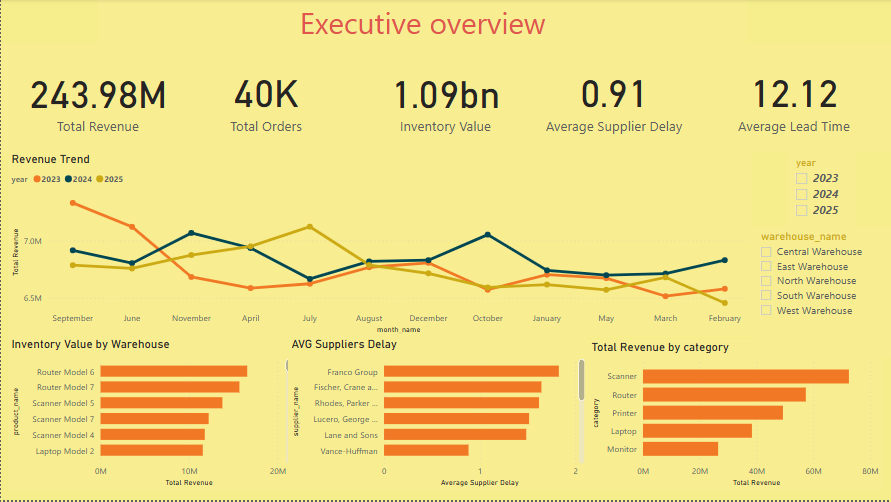

The page's visual inventory and layout, read from the dashboard file:
{"tool":"powerbi","page":{"name":"Executive Overview","canvas":[1280,720],"ordinal":0},"visuals":[{"type":"card","fields":{"Values":["dim_date.Average Lead Time"]},"box":[998.8,64.7,281.7,155.2],"z":0},{"type":"card","fields":{"Values":["dim_supplier.Average Supplier Delay"]},"box":[740.1,64.7,281.7,155.2],"z":1000},{"type":"card","fields":{"Values":["fact_inventory.Total Inventory Value"]},"box":[498.7,64.7,280.2,156.6],"z":2000},{"type":"card","fields":{"Values":["fact_customer_orders.Total Orders"]},"box":[241.4,64.7,278.8,155.2],"z":3000},{"type":"card","fields":{"Values":["fact_customer_orders.Total Revenue"]},"box":[0,64.7,278.8,156.6],"z":4000},{"type":"lineChart","title":"Revenue Trend","fields":{"Category":["dim_date.month_name"],"Y":["fact_customer_orders.Total Revenue"],"Series":["dim_date.year"]},"box":[10.1,219.9,1069.2,265.9],"z":5000},{"type":"clusteredBarChart","title":"Inventory Value by Warehouse","fields":{"Category":["dim_product.product_name"],"Y":["fact_customer_orders.Total Revenue"]},"box":[10.1,485.7,412.5,219.9],"z":6000},{"type":"clusteredBarChart","fields":{"Category":["dim_product.category"],"Y":["fact_customer_orders.Total Revenue"]},"box":[843.6,490.1,422.5,215.6],"z":7000},{"type":"slicer","fields":{"Values":["dim_date.year"]},"box":[1129.6,221.3,99.2,104.9],"z":8000},{"type":"slicer","fields":{"Values":["dim_warehouse.warehouse_name"]},"box":[1079.3,326.2,201.2,188.3],"z":9000},{"type":"barChart","title":"AVG Suppliers Delay","fields":{"Category":["dim_supplier.supplier_name"],"Y":["dim_supplier.Average Supplier Delay"]},"box":[412.5,485.7,431.1,219.9],"z":10000},{"type":"textbox","box":[139.4,0,932.7,76.2],"z":10001}]}

Visuals, with their boxes in screenshot pixels (x1, y1, x2, y2), scaled from the page's 1280x720 canvas onto the 891x502 screenshot:
card - dim_date.Average Lead Time: l=695, t=45, r=890, b=153
card - dim_supplier.Average Supplier Delay: l=515, t=45, r=711, b=153
card - fact_inventory.Total Inventory Value: l=347, t=45, r=542, b=154
card - fact_customer_orders.Total Orders: l=168, t=45, r=362, b=153
card - fact_customer_orders.Total Revenue: l=0, t=45, r=194, b=154
"Revenue Trend" lineChart: l=7, t=153, r=751, b=339
"Inventory Value by Warehouse" clusteredBarChart: l=7, t=339, r=294, b=492
clusteredBarChart - dim_product.category x fact_customer_orders.Total Revenue: l=587, t=342, r=881, b=492
slicer - dim_date.year: l=786, t=154, r=855, b=227
slicer - dim_warehouse.warehouse_name: l=751, t=227, r=890, b=359
"AVG Suppliers Delay" barChart: l=287, t=339, r=587, b=492
textbox: l=97, t=0, r=746, b=53
